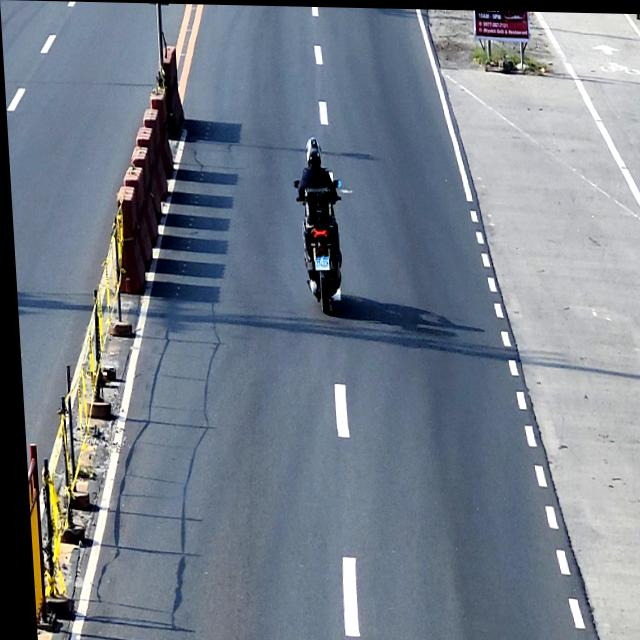License-Plate: (312, 255, 328, 269)
Motorcycle: (290, 175, 348, 317)
